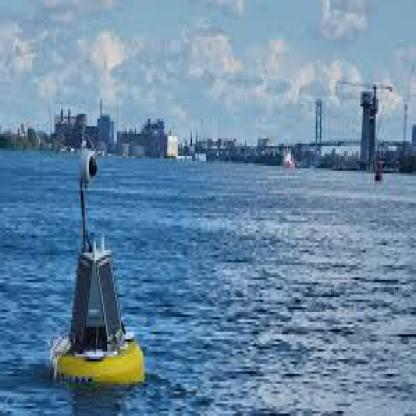buoy: (58, 146, 153, 391)
